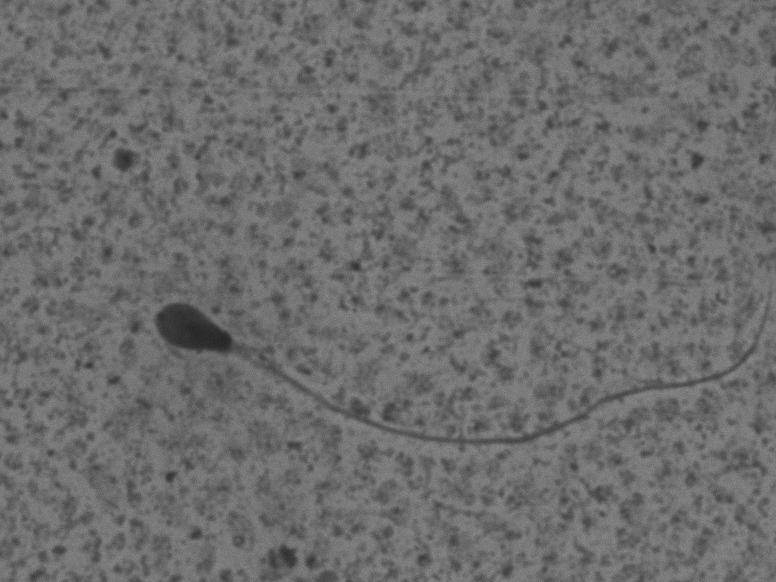Abnormal: (145, 230, 765, 478)
